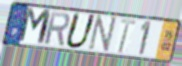1: (138, 20, 153, 57)
M: (17, 6, 53, 47)
N: (86, 14, 119, 55)
R: (43, 10, 71, 47)
T: (116, 17, 137, 55)
U: (63, 11, 98, 50)
